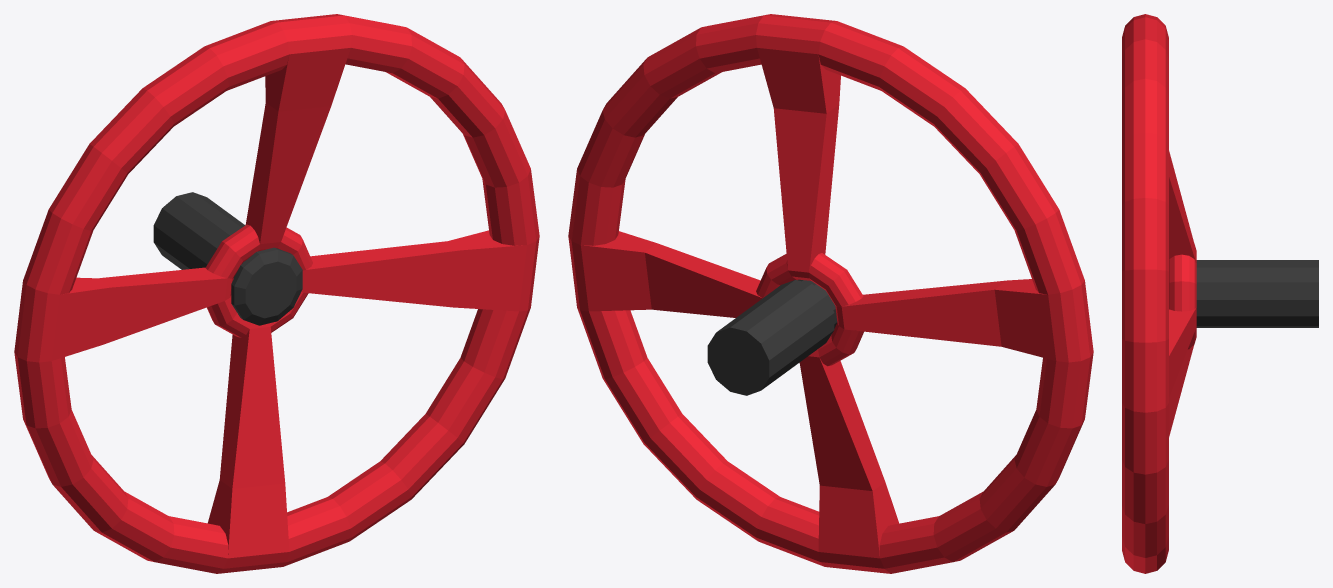
File: props.fbx_valve2.fbx
3 renders of one model, left to right at view 1: azimuth 30°, elevation 25°; view 2: azimuth 150°, elevation 25°; view 3: azimuth 270°, elevation 25°, orthographic. The views are drawn at different scales.
Visible parts, largest first — view 1: Torus.003, Cylinder.009; view 2: Torus.003, Cylinder.009; view 3: Torus.003, Cylinder.009.
Boxes of the visible parts, bbox=[...] form: Torus.003: bbox=[14, 14, 539, 573]; Cylinder.009: bbox=[153, 192, 302, 325]; Torus.003: bbox=[568, 14, 1093, 573]; Cylinder.009: bbox=[707, 279, 837, 395]; Torus.003: bbox=[1122, 14, 1196, 573]; Cylinder.009: bbox=[1196, 260, 1318, 327].
Size of the model in its own units: 1.21 by 1.21 by 0.4241.
